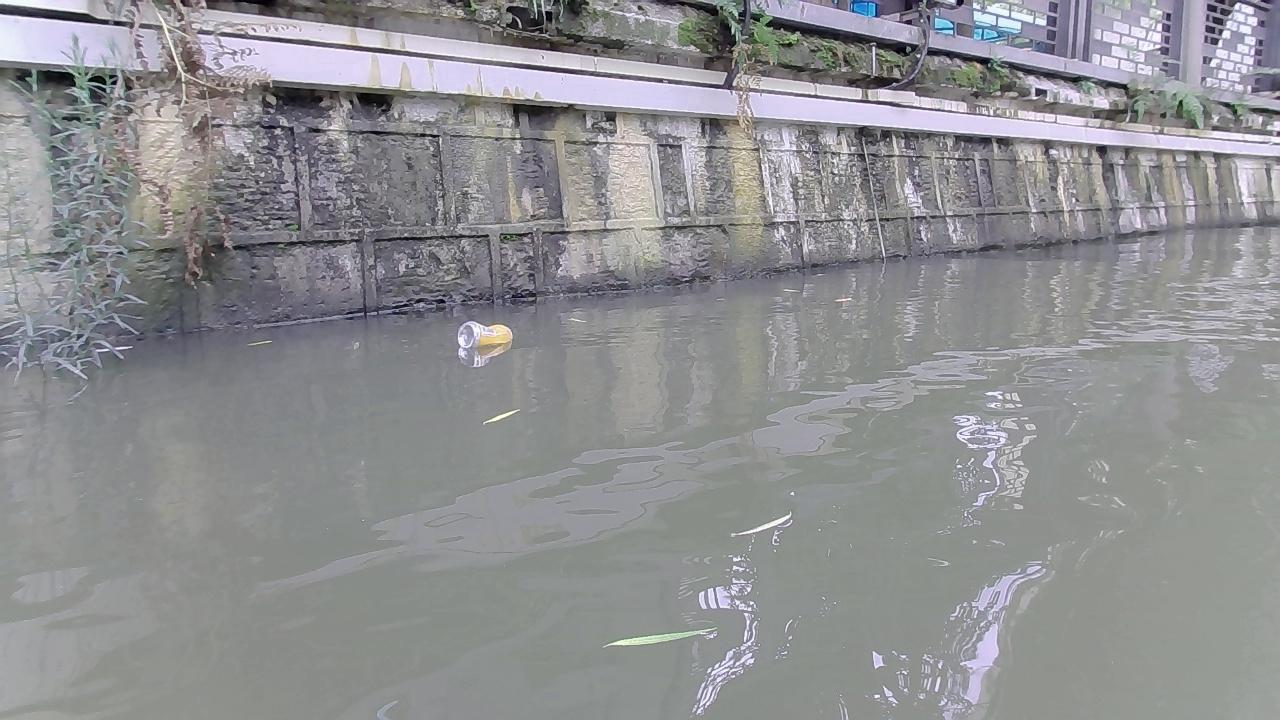Metal: (456, 320, 514, 351)
